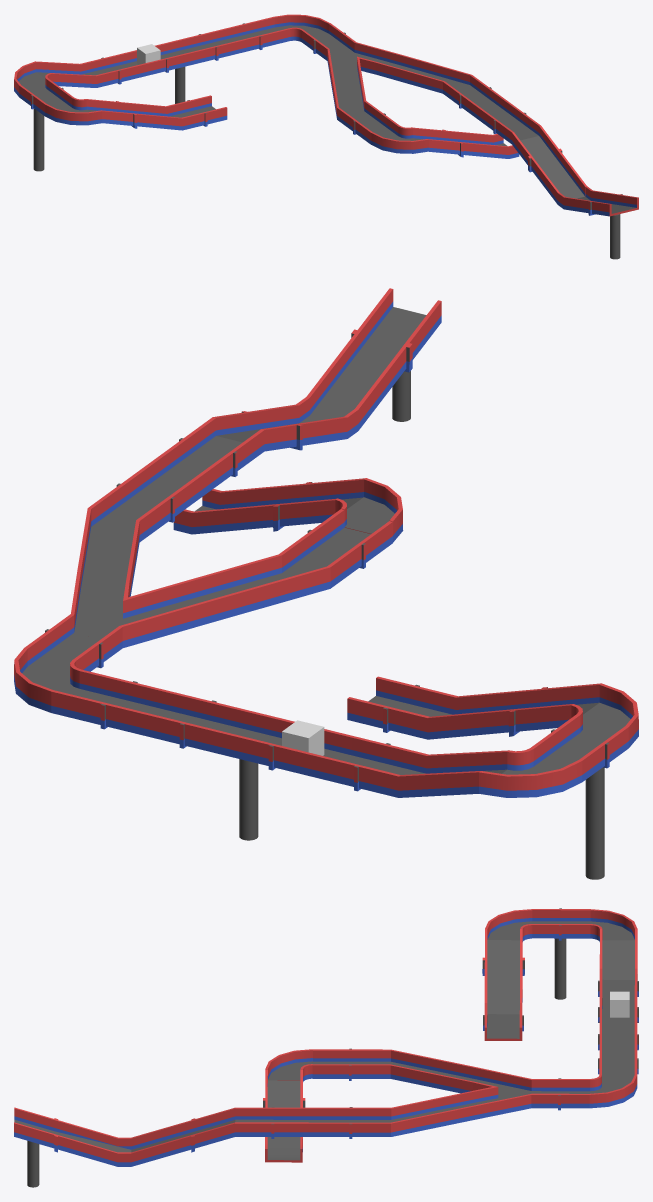
The model's file is raylar2.fbx.
The picture shows the model from 3 angles, top to bottom: view 1: azimuth 30°, elevation 25°; view 2: azimuth 150°, elevation 25°; view 3: azimuth 270°, elevation 25°; orthographic projection. The views are drawn at different scales.
Parts seen in each view (by area): view 1: uzunRay, RayAsagiUzun2, RayYukariUzun.001, XraySag, RayAsagiUzun, Xray, RayYukariUzun, rayKisa2.003, rayKisa2.002, rayKisa2.001, rayKisa, rayKisa2 (+12 smaller); view 2: uzunRay, RayYukariUzun, RayYukariUzun.001, XraySol, RayAsagiUzun, Xray, rayKisa2.002, rayKisa2.003, rayKisa2.001, rayKisa, rayKisa2, RayAsagiUzun2 (+12 smaller); view 3: RayYukariUzun, RayAsagiUzun2, uzunRay, RayAsagiUzun, Xray, XraySag, XraySol, rayKisa2.001, rayKisa2.002, rayKisa2.003, RayYukariUzun.001, ray3 (+11 smaller).
Boxes of the visible parts, x1,y1,x2,y2 form: uzunRay: (125,17,290,77); RayAsagiUzun2: (512,125,586,204); RayYukariUzun.001: (413,127,519,158); XraySag: (375,55,471,93); RayAsagiUzun: (86,99,182,130); Xray: (327,42,403,83); RayYukariUzun: (558,186,638,216); rayKisa2.003: (477,100,540,144); rayKisa2.002: (443,75,506,118); rayKisa2.001: (337,101,399,144); rayKisa: (80,53,141,87); rayKisa2: (166,95,227,130); uzunRay: (51,669,348,777); RayYukariUzun: (296,288,441,438); RayYukariUzun.001: (173,478,364,534); XraySol: (158,554,330,623); RayAsagiUzun: (427,683,601,739); Xray: (71,569,208,647); rayKisa2.002: (88,462,201,541); rayKisa2.003: (150,417,264,496); rayKisa2.001: (279,509,392,588); rayKisa: (318,735,428,797); rayKisa2: (347,676,457,739); RayAsagiUzun2: (213,404,347,451); RayYukariUzun: (14,1107,131,1166); RayAsagiUzun2: (131,1107,235,1166); uzunRay: (598,993,638,1086); RayAsagiUzun: (482,929,524,1014); Xray: (473,1066,531,1119); XraySag: (391,1091,473,1136); XraySol: (390,1049,473,1093); rayKisa2.001: (312,1048,390,1080); rayKisa2.002: (313,1107,391,1138); rayKisa2.003: (235,1107,313,1138); RayYukariUzun.001: (263,1069,305,1162); ray3: (531,1078,589,1110).
Size of the model in its own units: 4893 by 959 by 6414.
